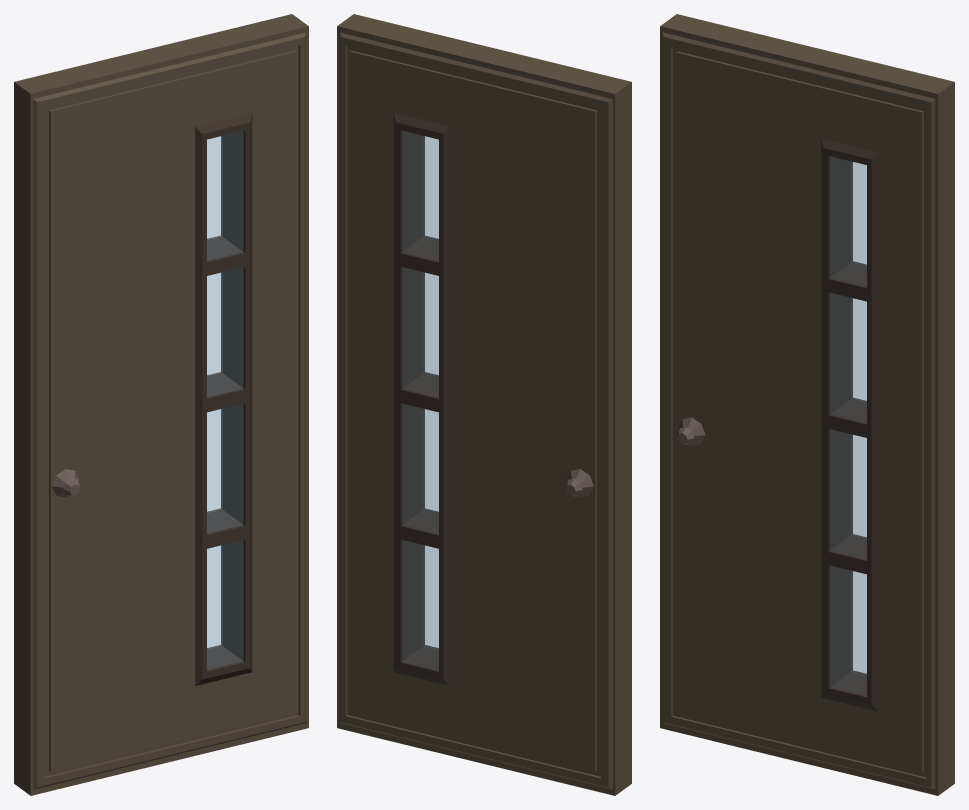
File: Door_6.glb
3 views of the same model, side by side, from view 1: azimuth 30°, elevation 25°; view 2: azimuth 150°, elevation 25°; view 3: azimuth 330°, elevation 25° (orthographic).
Visible parts, largest first — view 1: Door_6; view 2: Door_6; view 3: Door_6.
Part boxes in pixels (x1,y1,x2,y2): Door_6: (14,14,308,795); Door_6: (337,14,631,795); Door_6: (660,14,954,795).
Size of the model in its own units: 1.74 by 4.2 by 0.4211.
